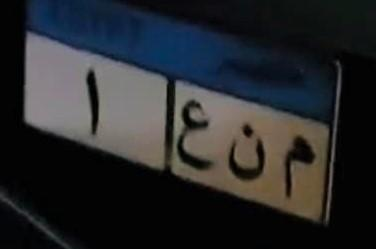1: (72, 59, 112, 140)
ain: (176, 97, 218, 175)
meem: (274, 133, 320, 203)
noon: (225, 122, 268, 186)
